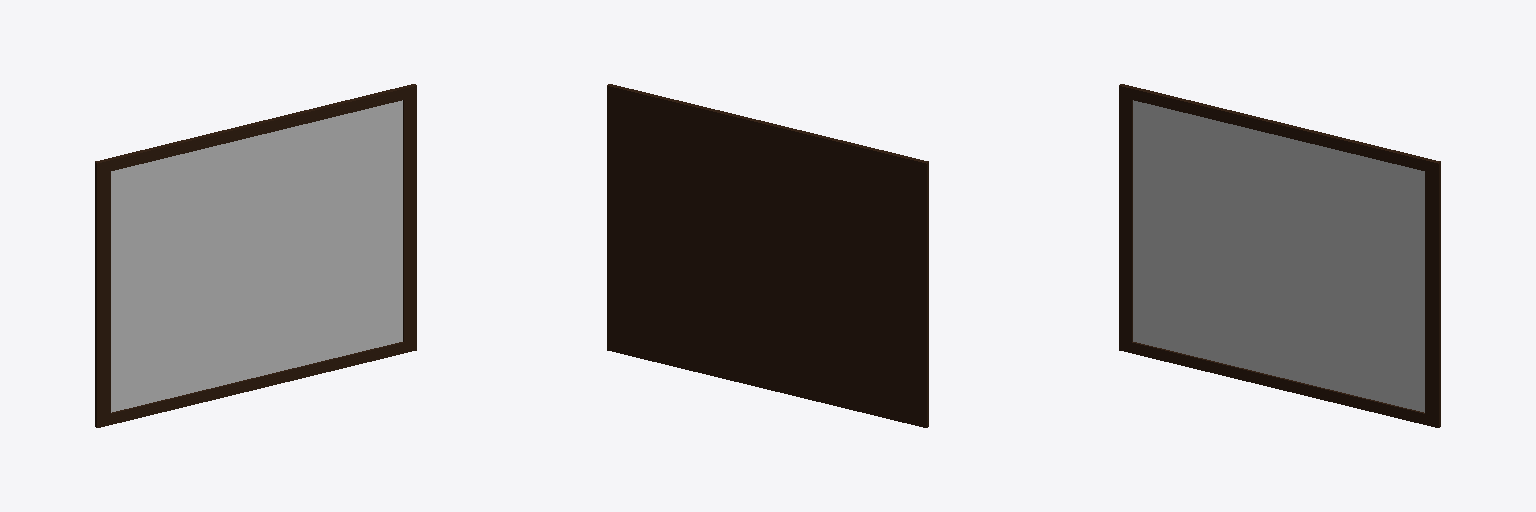
The model's file is belliellis.obj.
The picture shows the model from 3 angles: view 1: azimuth 30°, elevation 25°; view 2: azimuth 150°, elevation 25°; view 3: azimuth 330°, elevation 25°; orthographic projection.
Parts seen in each view (by area): view 1: Cube; view 2: Cube; view 3: Cube.
Boxes of the visible parts, x1,y1,x2,y2 form: Cube: [95, 84, 416, 427]; Cube: [607, 84, 928, 427]; Cube: [1119, 84, 1440, 427].
Size of the model in its own units: 1265 by 1000 by 18.5.